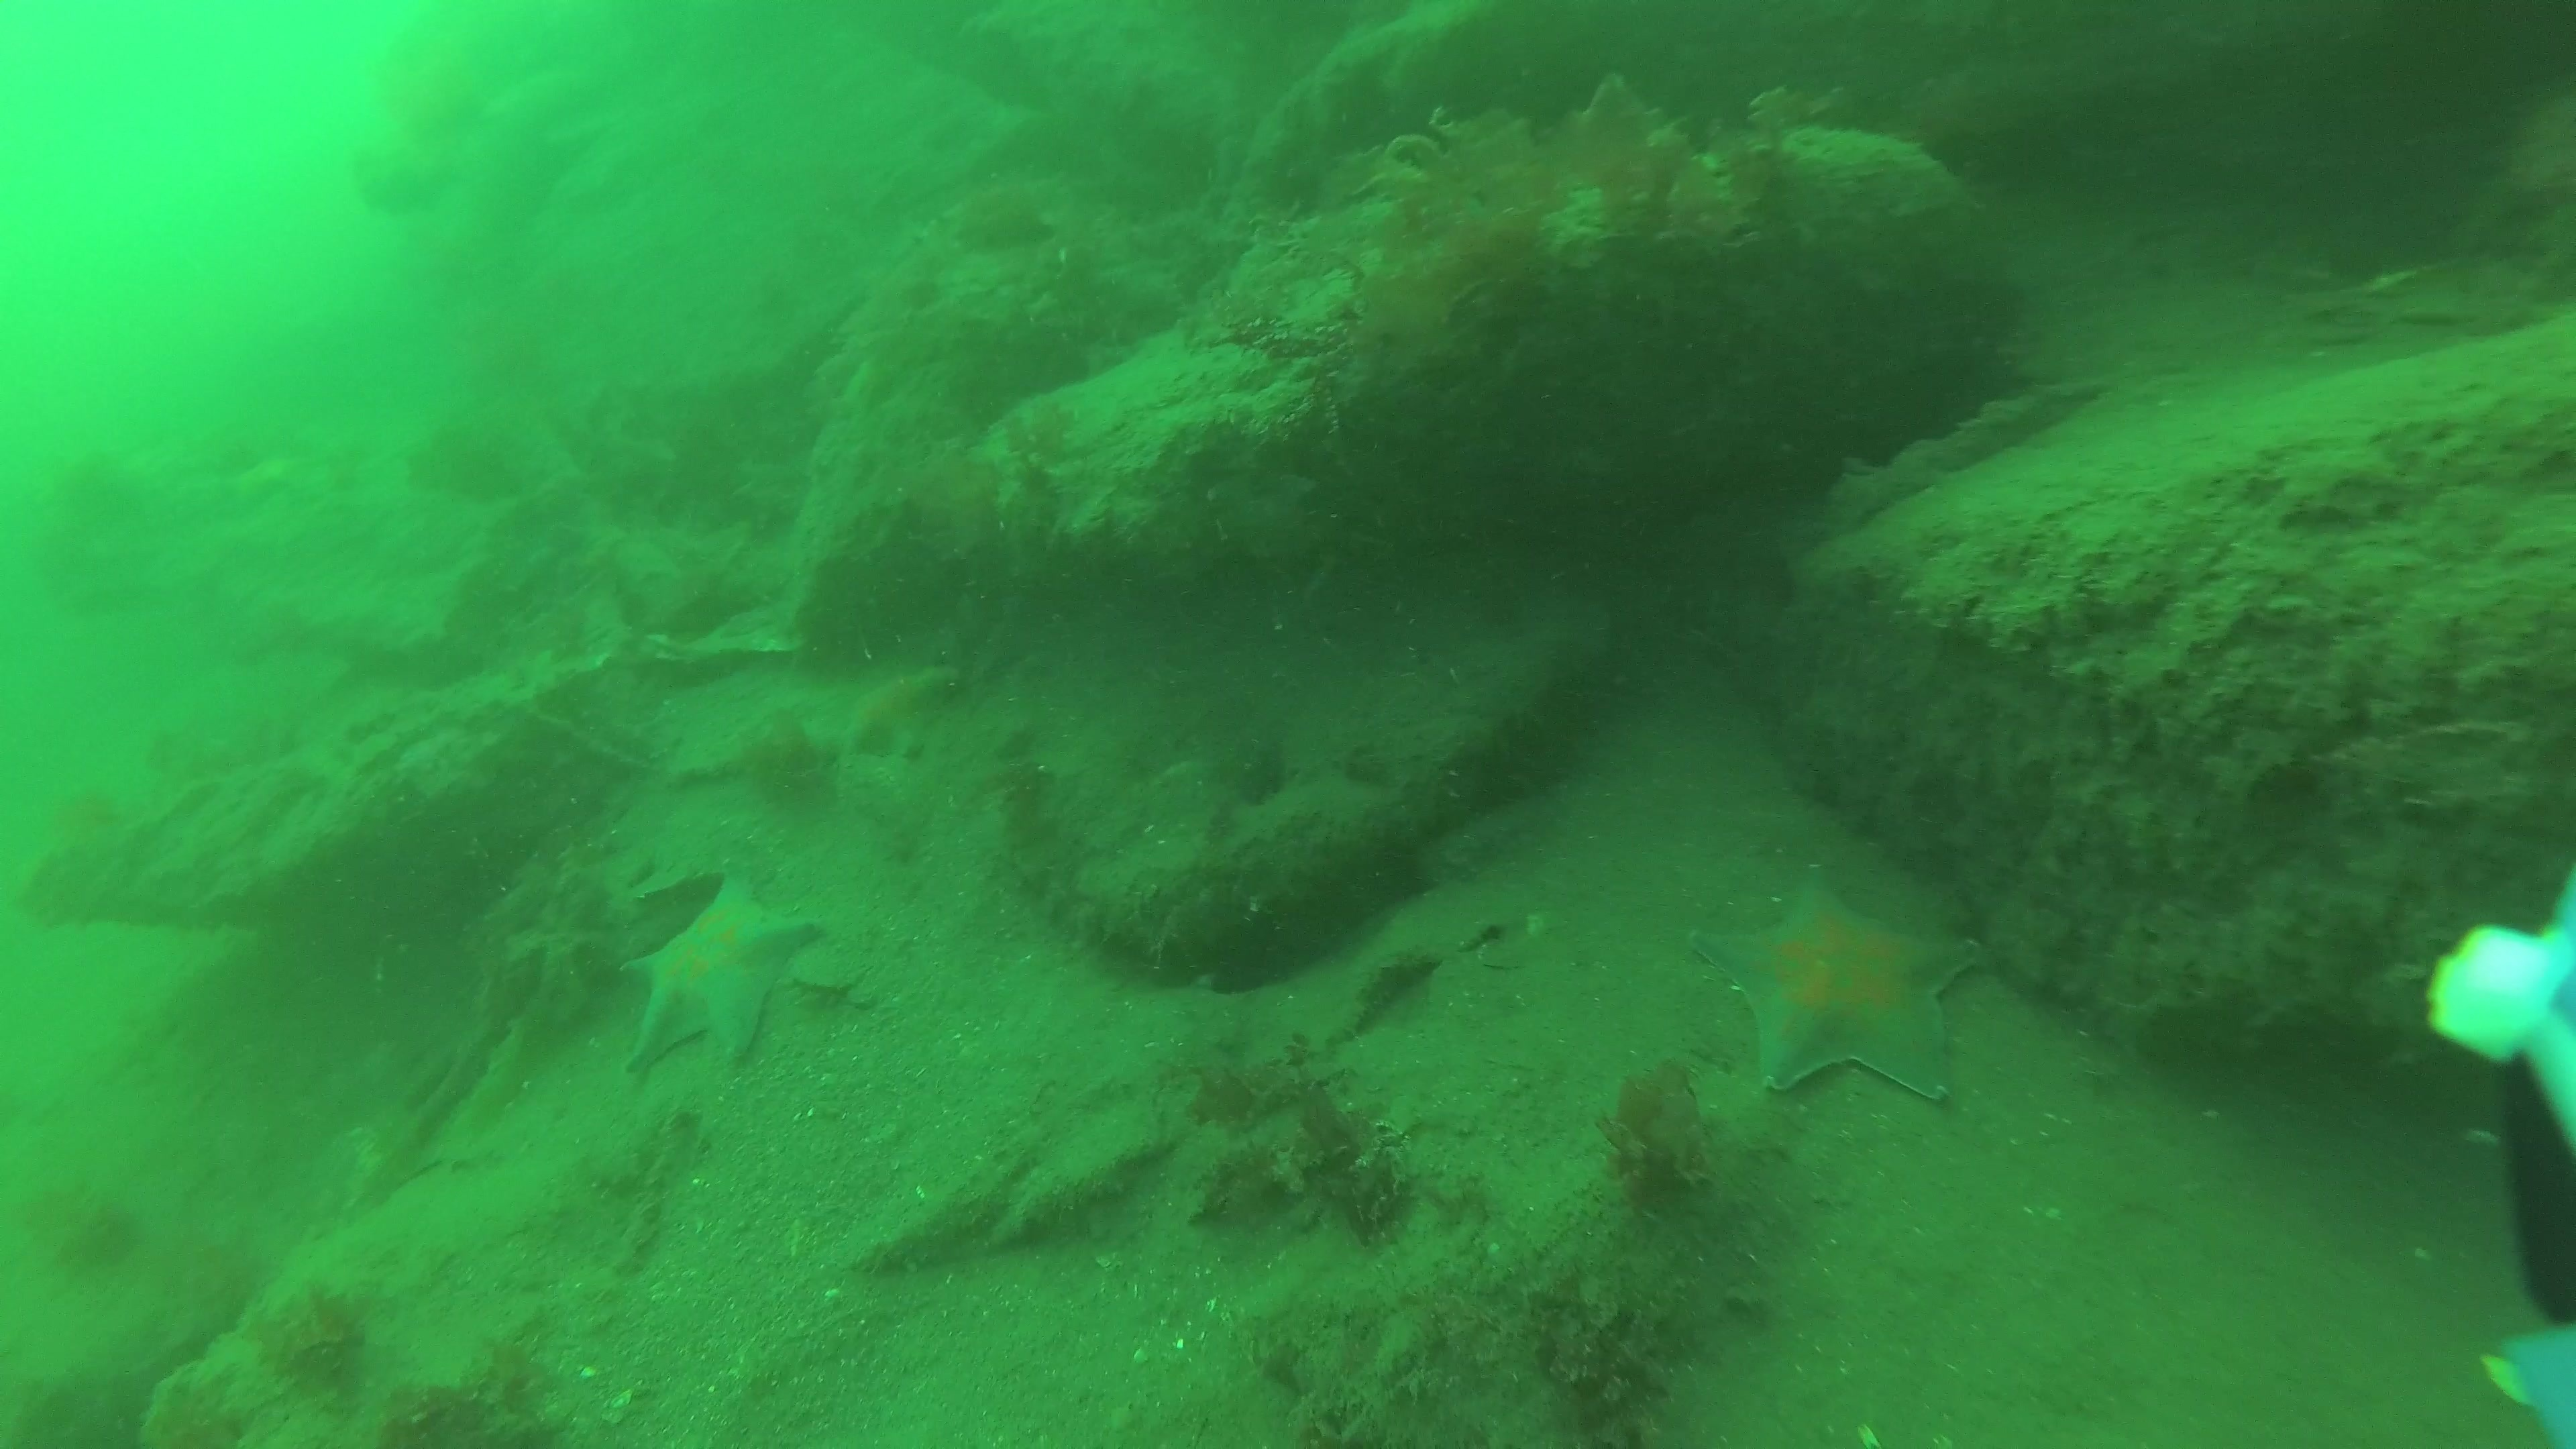starfish: (1688, 883, 1982, 1102), (619, 883, 816, 1083)
